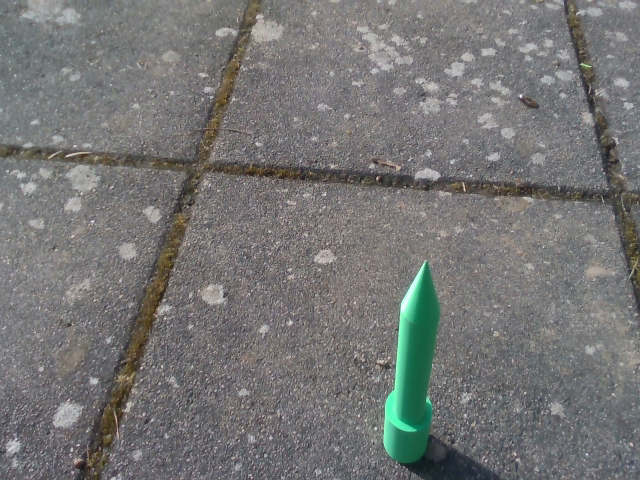Probe: (377, 248, 448, 468)
